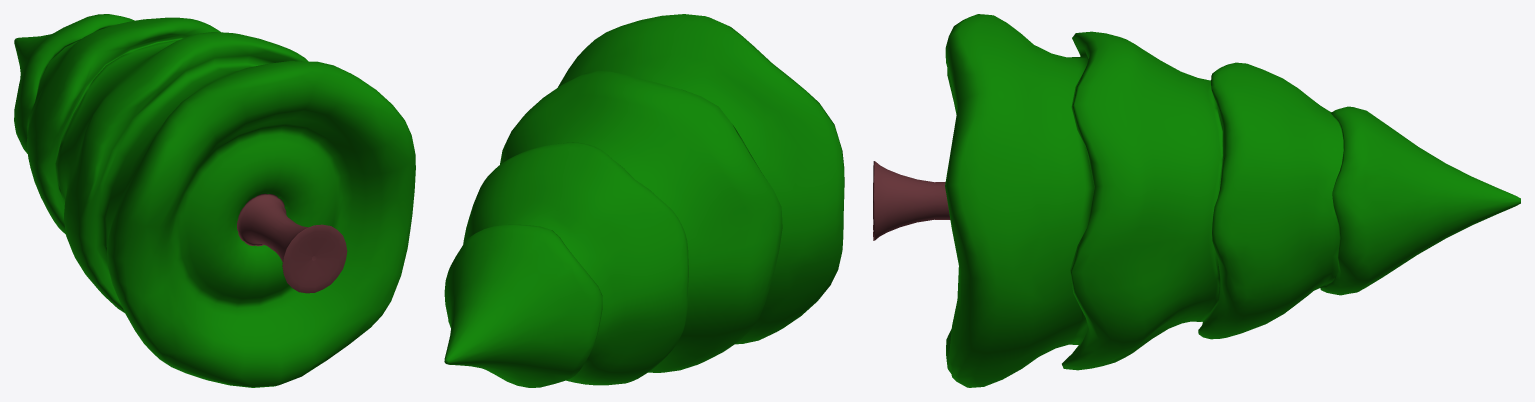
The model's file is Tree.fbx.
3 renders of one model, left to right at view 1: azimuth 30°, elevation 25°; view 2: azimuth 150°, elevation 25°; view 3: azimuth 270°, elevation 25°, orthographic. The views are drawn at different scales.
Parts seen in each view (by area): view 1: nurbsToPoly3; view 2: nurbsToPoly3; view 3: nurbsToPoly3.
Boxes of the visible parts, x1,y1,x2,y2 form: nurbsToPoly3: (14, 14, 415, 387); nurbsToPoly3: (444, 14, 844, 387); nurbsToPoly3: (873, 14, 1520, 387).
Size of the model in its own units: 2.65 by 2.65 by 4.58.
